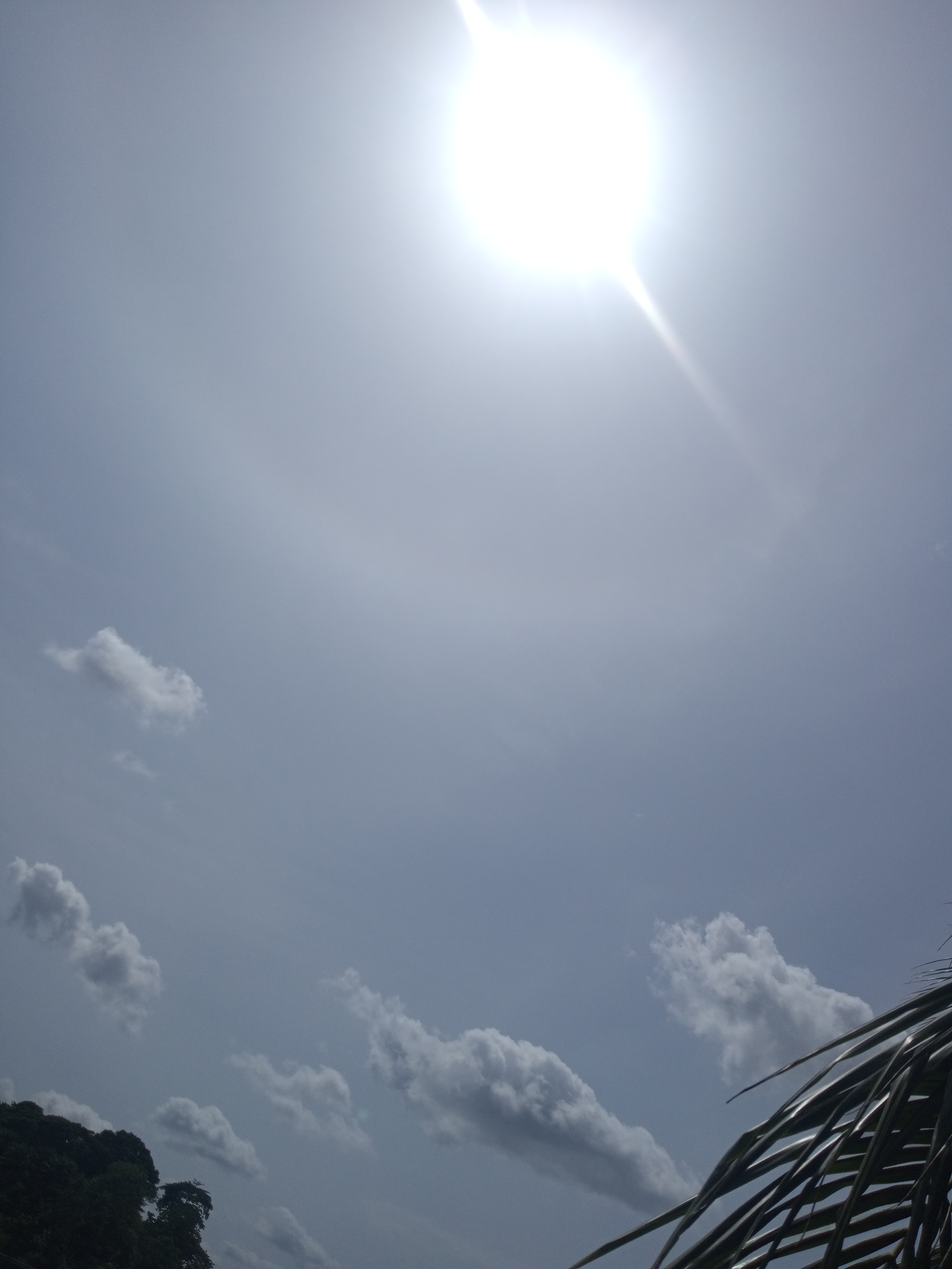sun: (351, 7, 723, 353)
